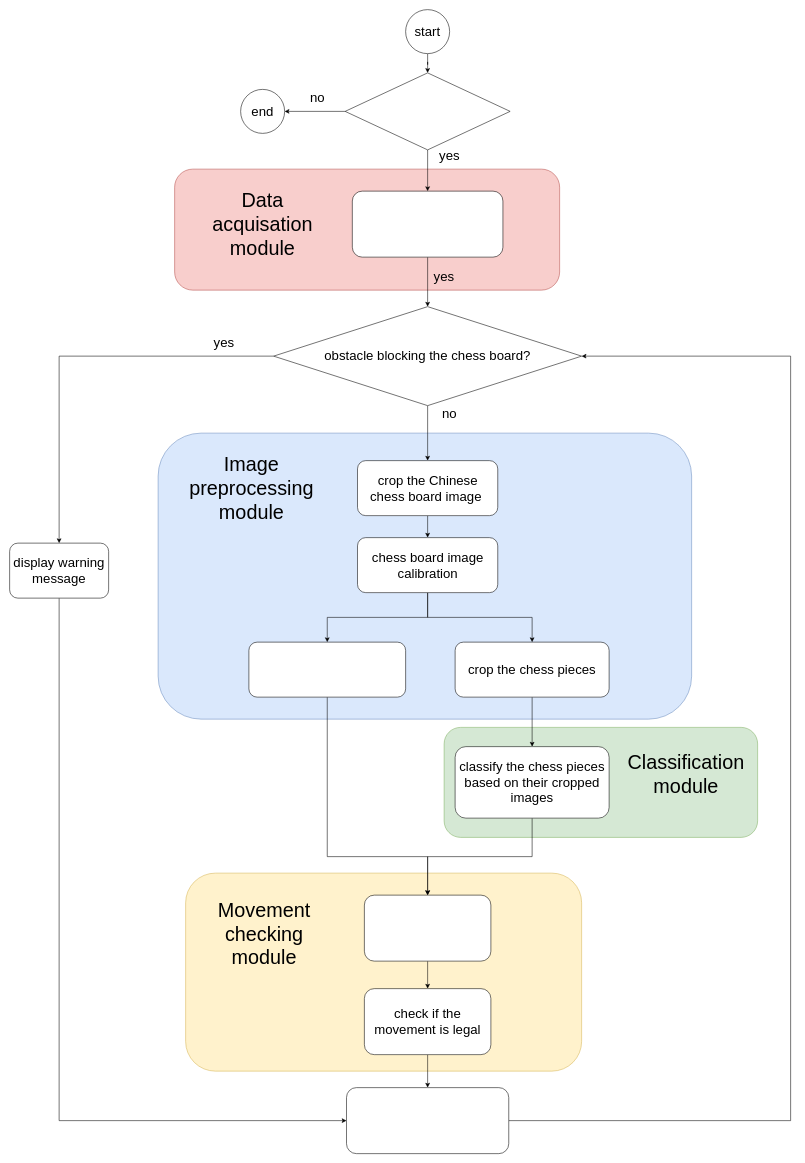
This 805x1163 diagram has some shape labels left out. The shapes that lost their labels are listed below. From the top down, each one's centre as x and y in pixels, then its label:
At [427,111]: "system is on".
At [427,224]: "webcam capture the image of the current chess state".
At [327,669]: "find the center position of each chess piece".
At [427,928]: "construct the digital board model".
At [427,1120]: "display the current state and movement checking result".
